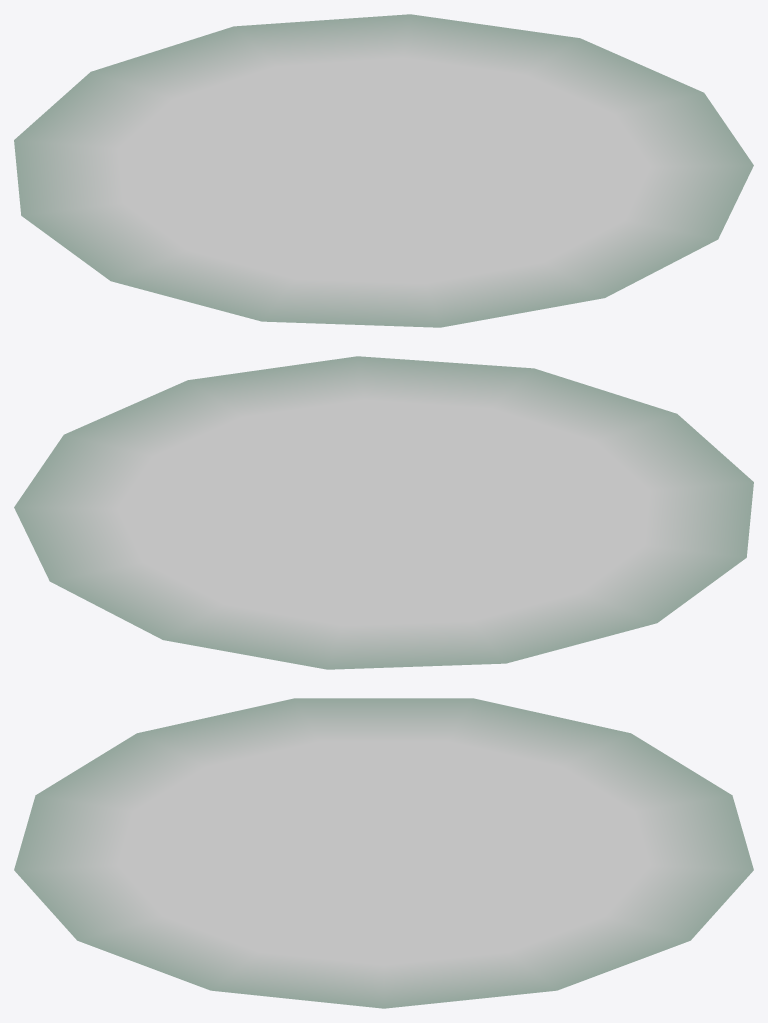
Rendered from RoundPlanter_Grass.glb.
The picture shows the model from 3 angles, top to bottom: view 1: azimuth 30°, elevation 25°; view 2: azimuth 150°, elevation 25°; view 3: azimuth 270°, elevation 25°; orthographic projection.
Visible parts, largest first — view 1: RoundPlanter_Grass; view 2: RoundPlanter_Grass; view 3: RoundPlanter_Grass.
Part boxes in pixels (x1,y1,x2,y2): RoundPlanter_Grass: (14,14,753,327); RoundPlanter_Grass: (14,356,753,669); RoundPlanter_Grass: (14,698,753,1008).
Bounding box in the file's own units: 2.65 × 0 × 2.67.
